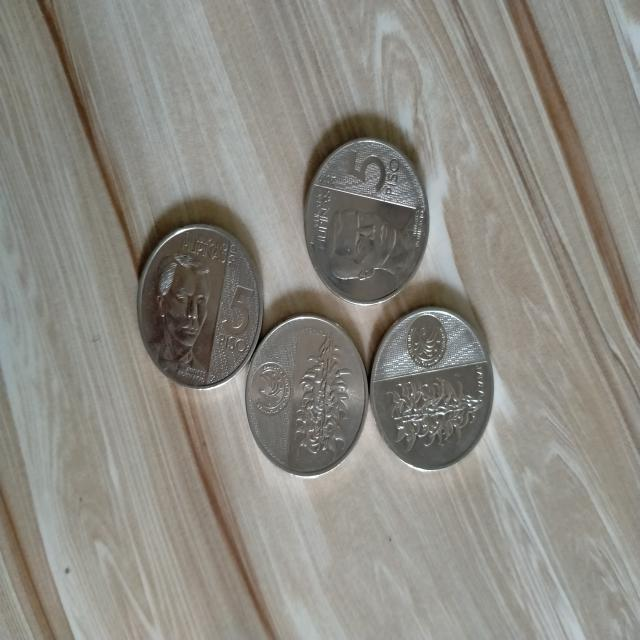5_New_Back: (378, 371, 492, 461), (296, 326, 353, 466)
5_New_Front: (346, 131, 410, 208), (212, 280, 256, 365)
